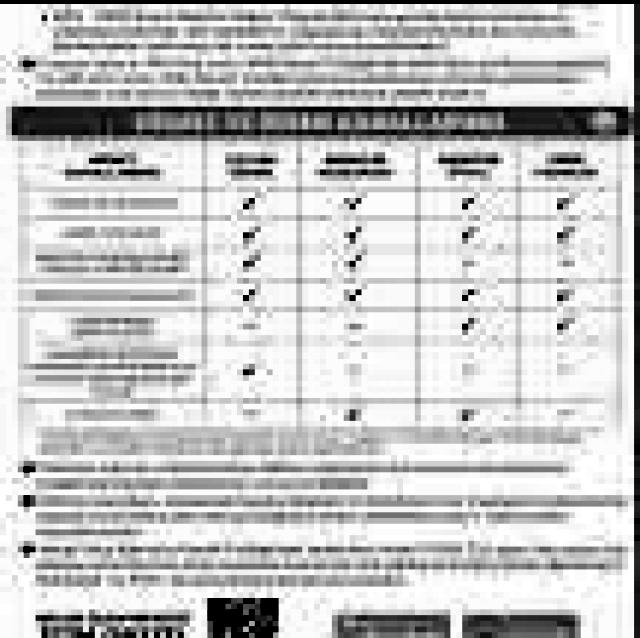electricity-bill: (0, 1, 640, 638)
